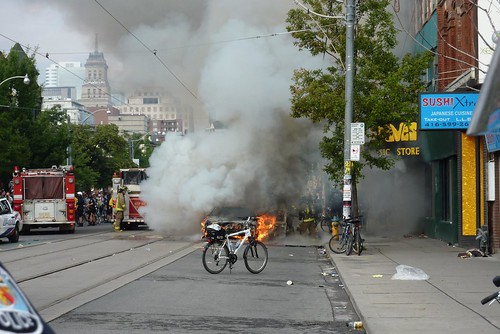bicicle: (193, 219, 274, 273), (319, 215, 367, 260)
firetruck: (114, 159, 184, 231), (11, 168, 82, 234)
sign: (421, 96, 477, 131)
smoke: (136, 65, 320, 239)
tree: (293, 5, 407, 232)
